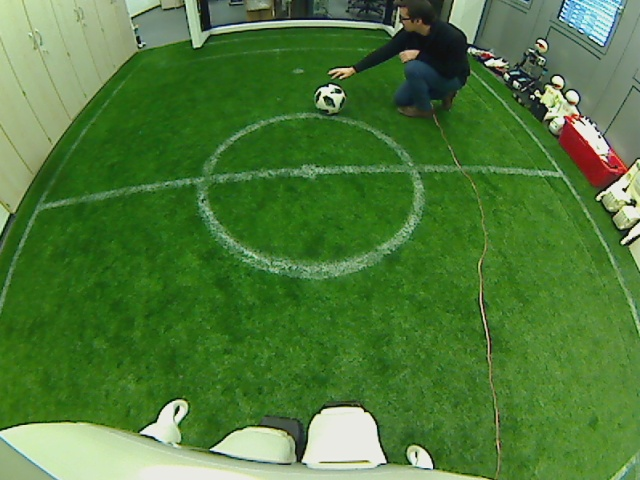ball: (313, 82, 346, 115)
